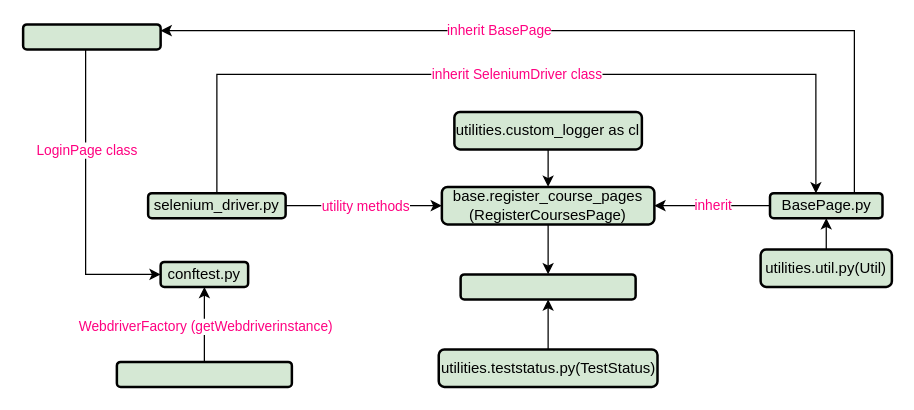
The diagram is 914 pixels wide and 410 high, and some of its shapes have lost their labels. Each missing label, with the centre of its shape:
"login_page.py" belongs at pixel 91 36.
"test_registercourse.py" belongs at pixel 547 286.
"webdriverfactory.py" belongs at pixel 203 374.
